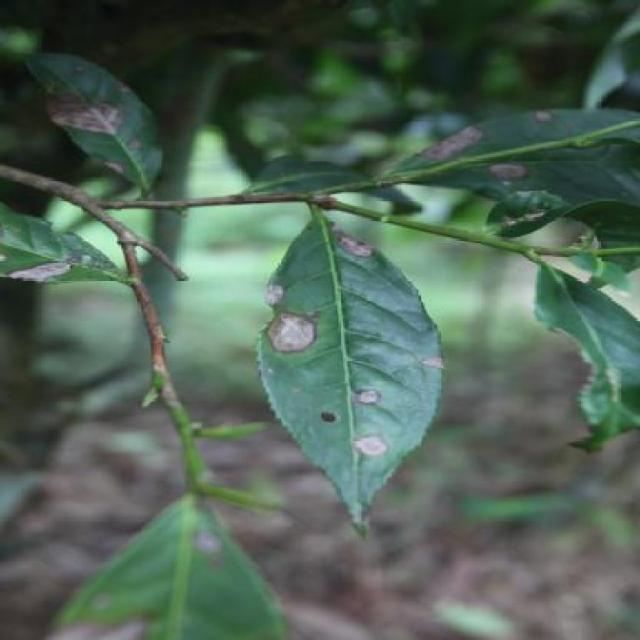Leaf rust of tea: (249, 195, 463, 516), (363, 82, 640, 186), (26, 40, 194, 171), (6, 165, 166, 297)
